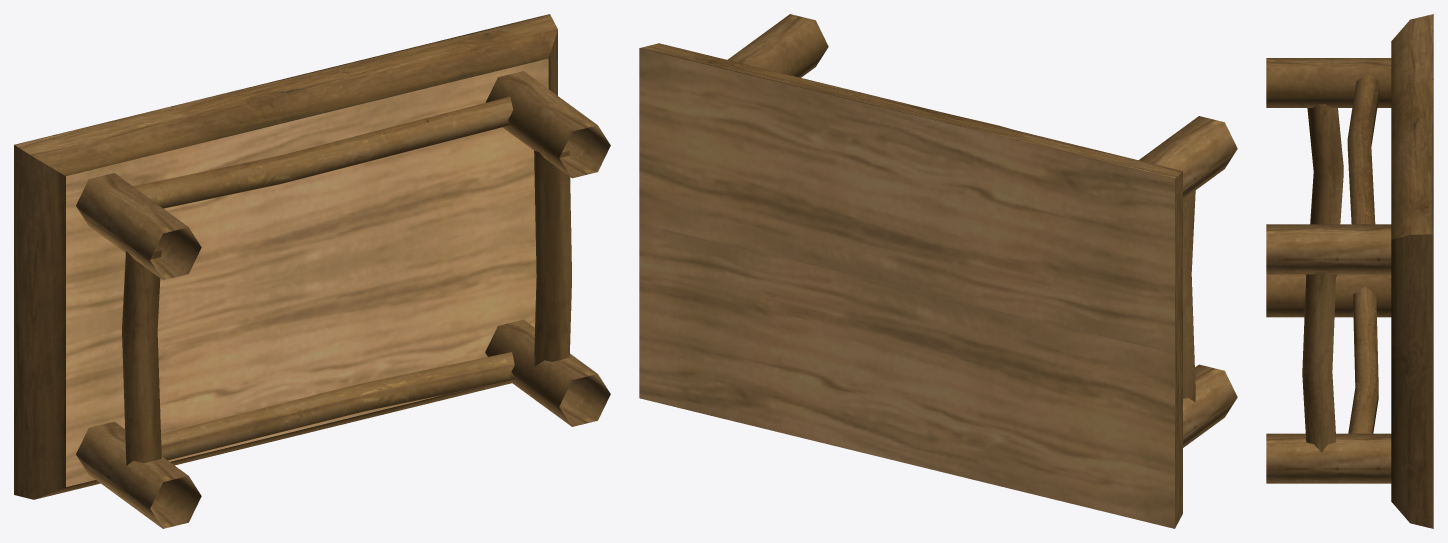
File: Log_Table_A.fbx
3 views of the same model, side by side, from view 1: azimuth 30°, elevation 25°; view 2: azimuth 150°, elevation 25°; view 3: azimuth 270°, elevation 25° (orthographic). The views are drawn at different scales.
Parts seen in each view (by area): view 1: Log_Table_A; view 2: Log_Table_A; view 3: Log_Table_A.
Part boxes in pixels (x1,y1,x2,y2): Log_Table_A: (14,14,610,528); Log_Table_A: (639,14,1237,528); Log_Table_A: (1266,14,1433,528).
Size of the model in its own units: 22.83 by 14.25 by 7.33.
